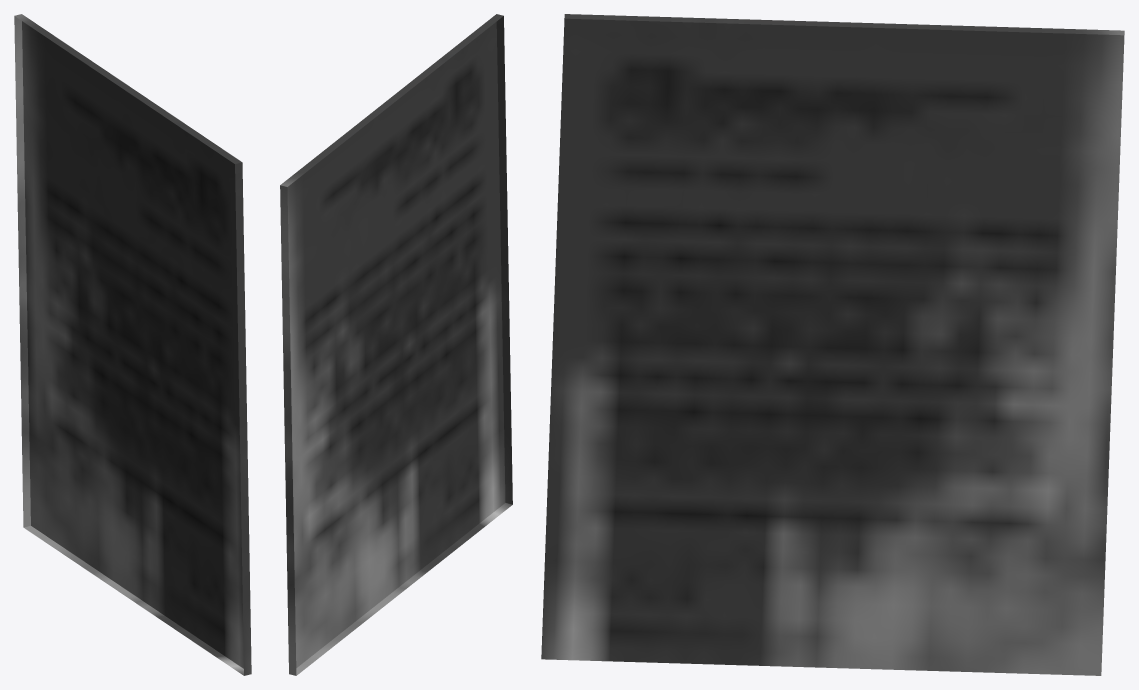
The model's file is Paper07.FBX.
The picture shows the model from 3 angles, left to right: view 1: azimuth 30°, elevation 25°; view 2: azimuth 150°, elevation 25°; view 3: azimuth 270°, elevation 25°; orthographic projection. The views are drawn at different scales.
Visible parts, largest first — view 1: Paper07; view 2: Paper07; view 3: Paper07.
Boxes of the visible parts, box(x1,y1,x2,y2) form: Paper07: box(14, 14, 251, 675); Paper07: box(280, 14, 512, 675); Paper07: box(541, 14, 1124, 675).
Size of the model in its own units: 0.4107 by 26.97 by 21.68.
